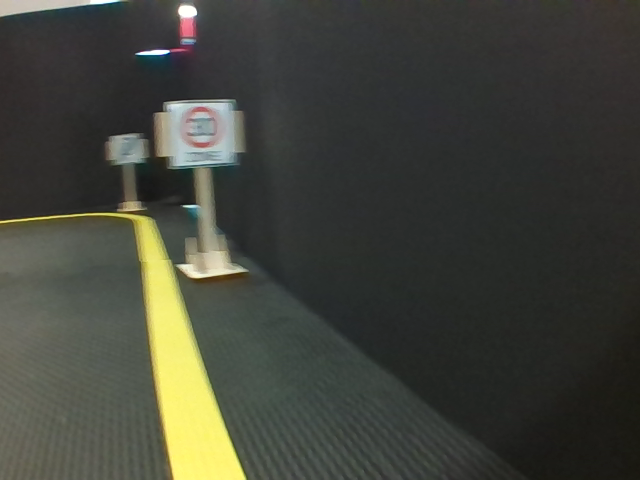30: (168, 102, 236, 164)
no30: (111, 136, 144, 166)
